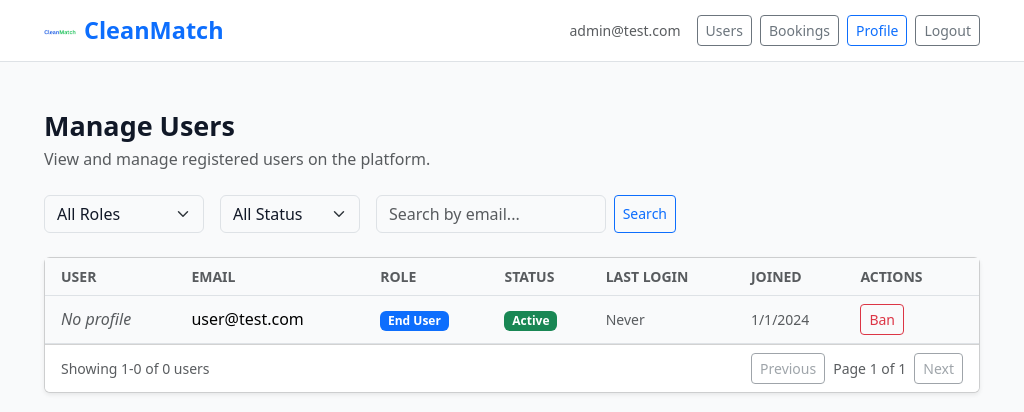
Test: AdminUsersPage › clicking Ban button shows inline input and Confirm button
Click the button "Ban": x=882, y=319 left=860, top=304, right=904, bottom=334
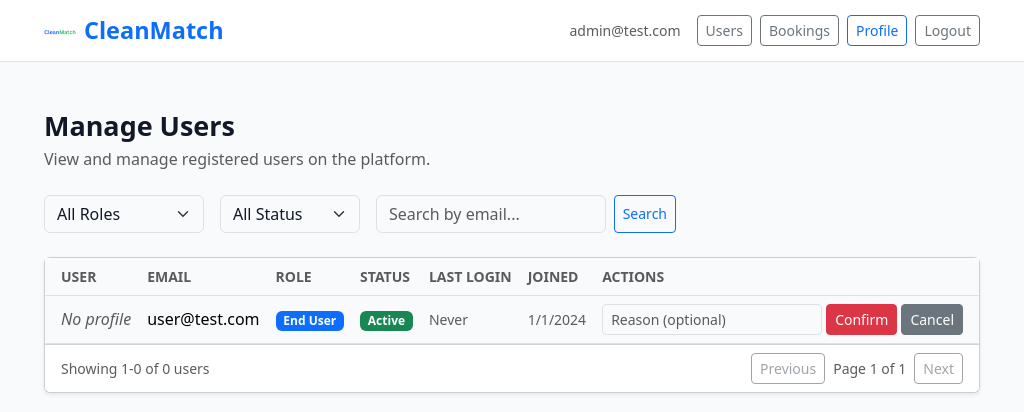
Expected: the button "Confirm" is shown, left=826, top=304, right=897, bottom=334
Expected: the field with placeholder "Reason (optional)" is shown, left=602, top=304, right=822, bottom=334
